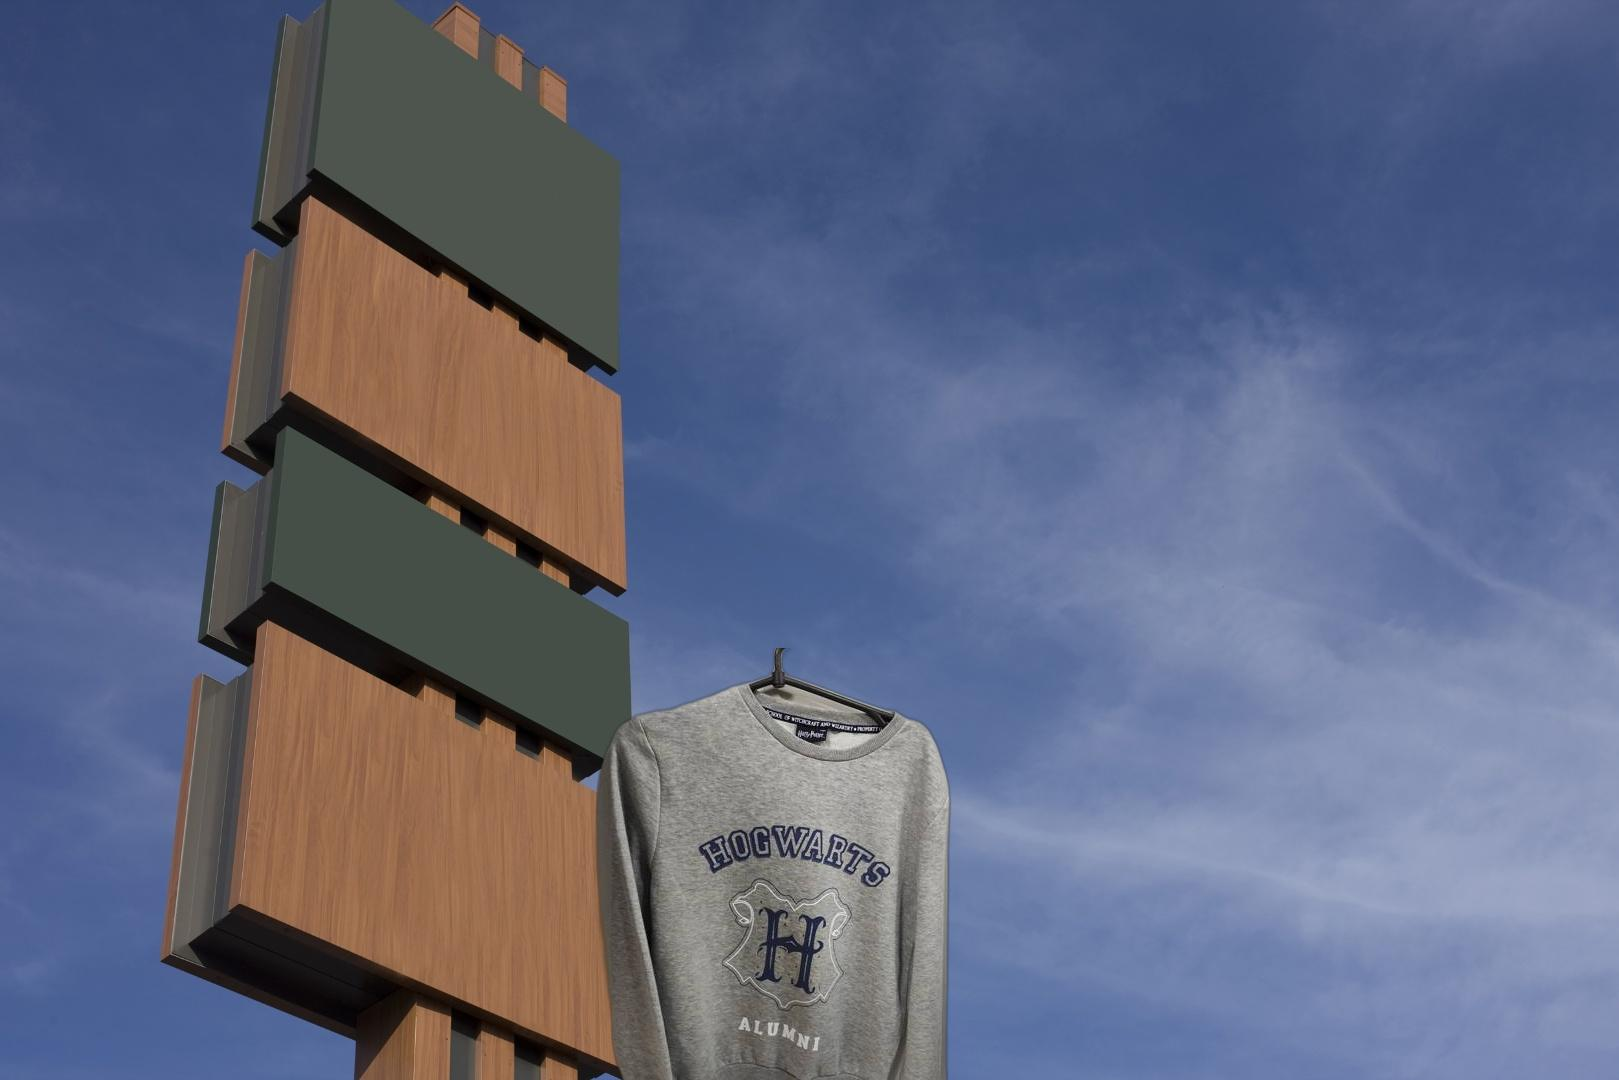clothes: (592, 648, 954, 1080)
